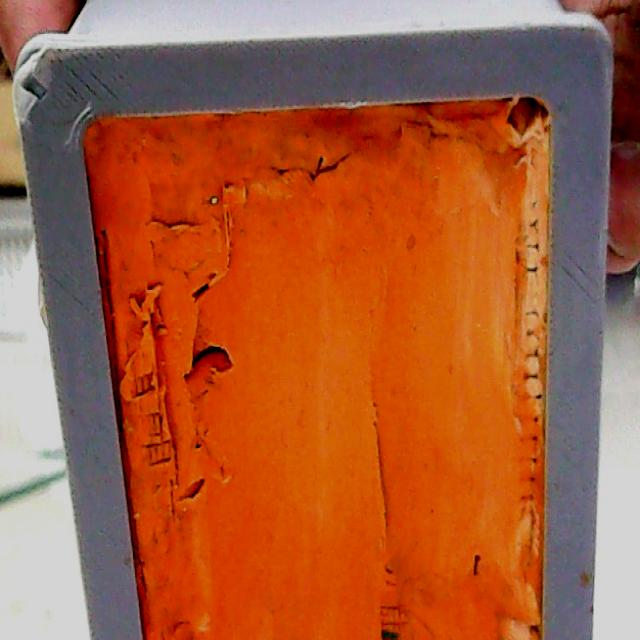block: (13, 0, 616, 640)
